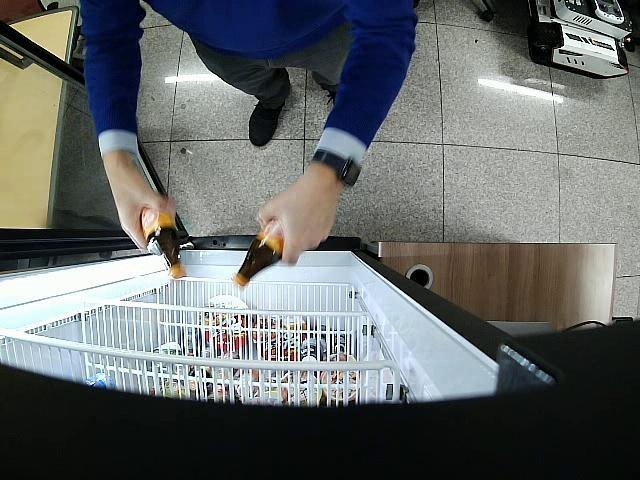17_vita500: (140, 208, 187, 280), (234, 220, 282, 288)
